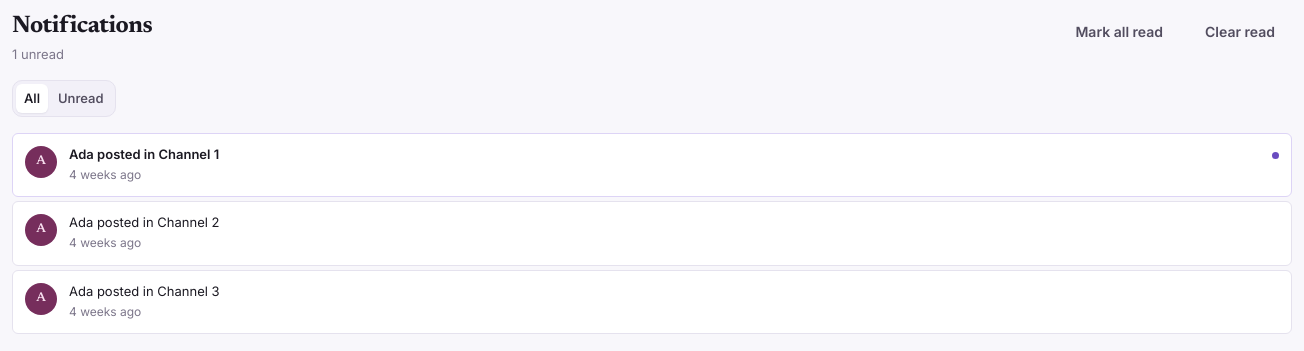
it: the sweeps › clears the read ones and keeps the unread
Expected: the number of buttons "A Ada posted in Channel 1 4 weeks ago" is 3, [12,133,1292,197]; [12,201,1292,266]; [12,270,1292,334]
Step 1. Click the button "Clear read" → coordinates (1240, 32), box [1188,12,1292,52]
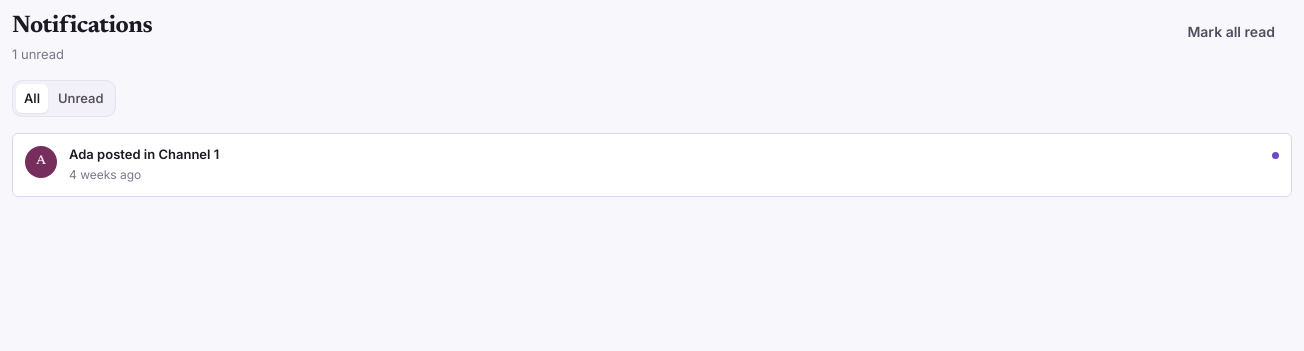
Expected: the text "Ada posted in Channel 1" is shown, [69,146,219,162]
Now the number of buttons "A Ada posted in Channel 1 4 weeks ago" is 1, box [12,133,1292,197]
Now the button "Clear read" is gone
